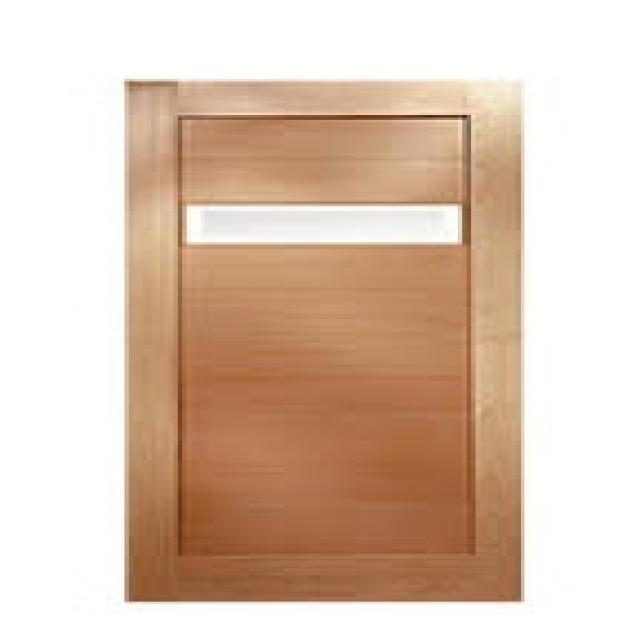door: (122, 78, 527, 603)
